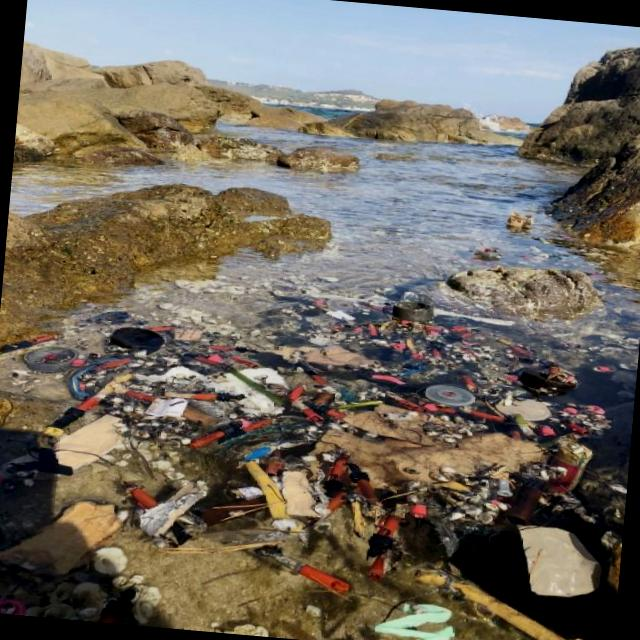garbage: (7, 250, 616, 640)
